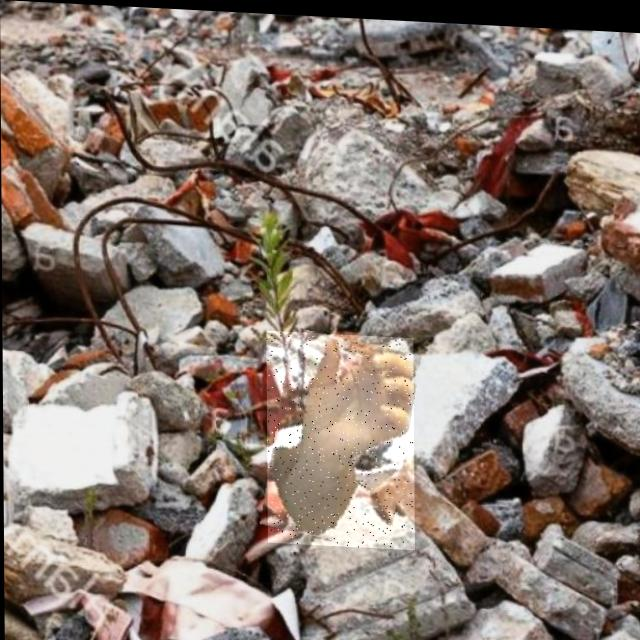Person in Rubble: (266, 328, 414, 546)
